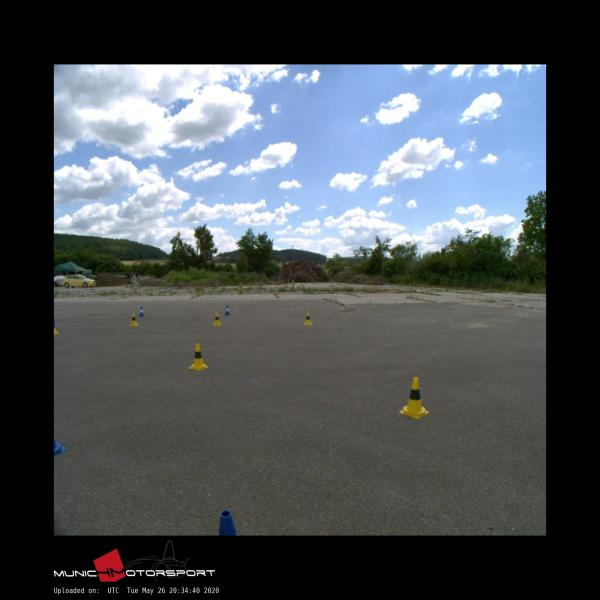blue_cone: (138, 307, 145, 317), (224, 305, 230, 315)
yellow_cone: (399, 376, 428, 418), (188, 343, 208, 369), (303, 311, 313, 325), (129, 313, 138, 326), (213, 312, 221, 326)
